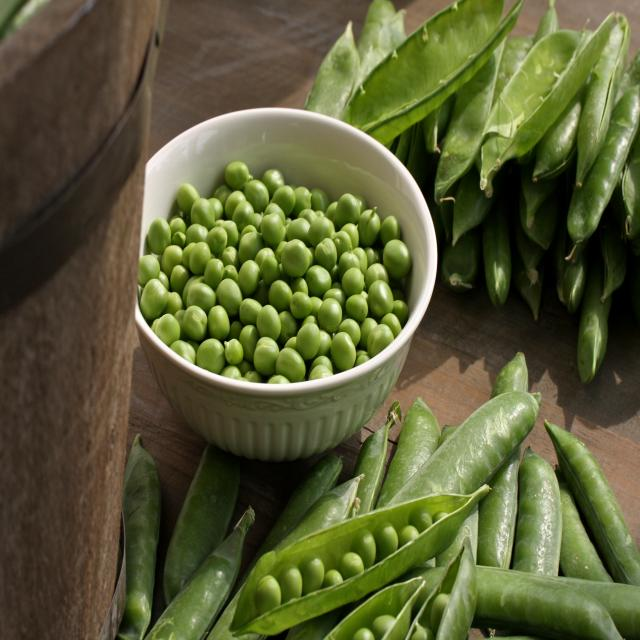pea: (161, 170, 402, 367), (256, 511, 440, 616)
